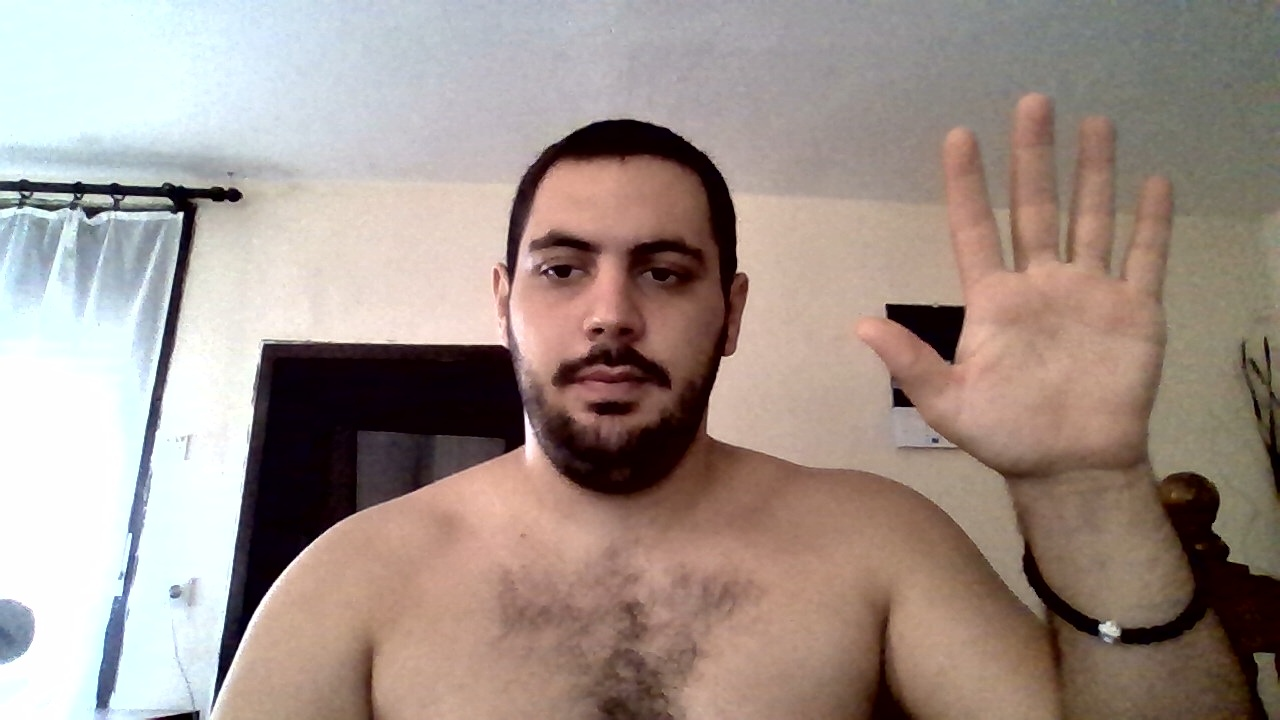palm: (853, 77, 1190, 482)
